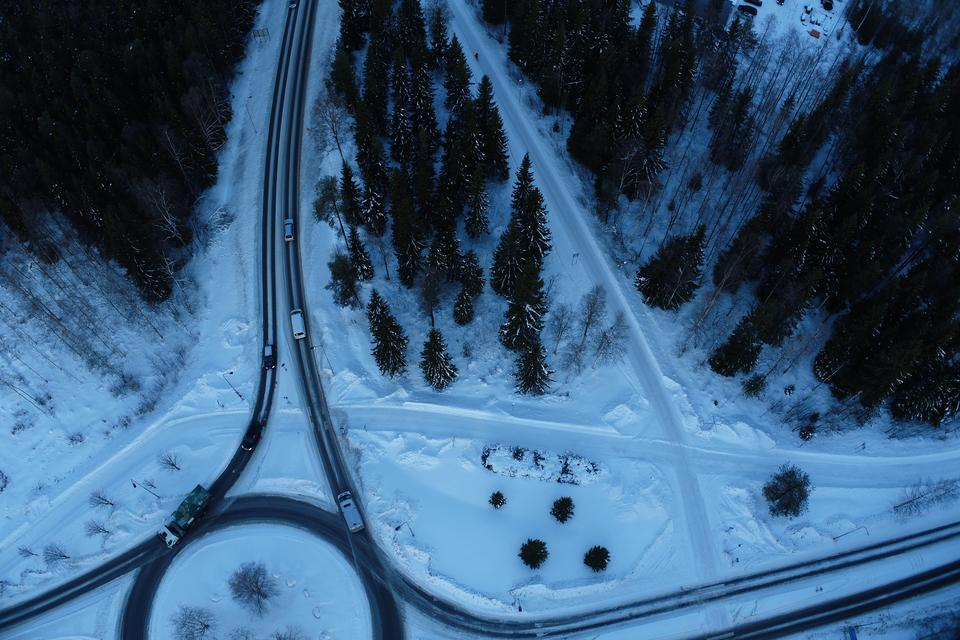intersection: (218, 397, 363, 445), (679, 564, 750, 640)
roundabout: (93, 447, 436, 640)
